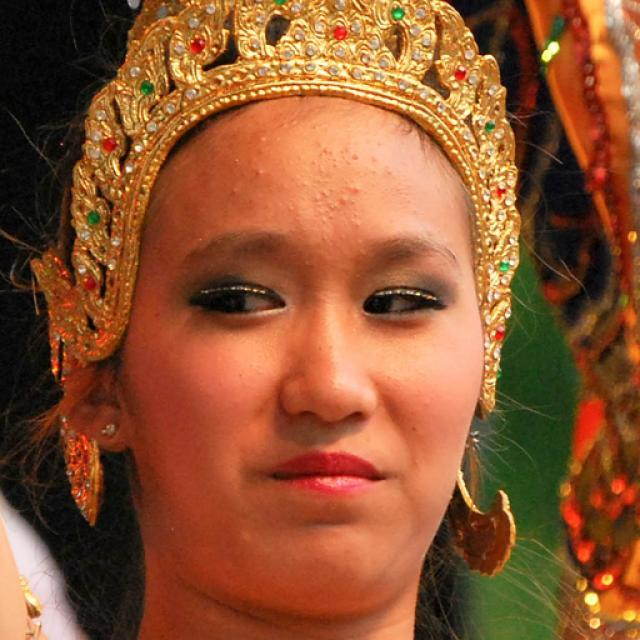disgust: (117, 92, 485, 614)
